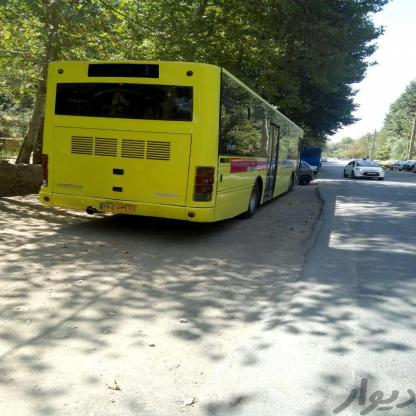Bus: (39, 49, 298, 232)
Car: (339, 154, 387, 184)
